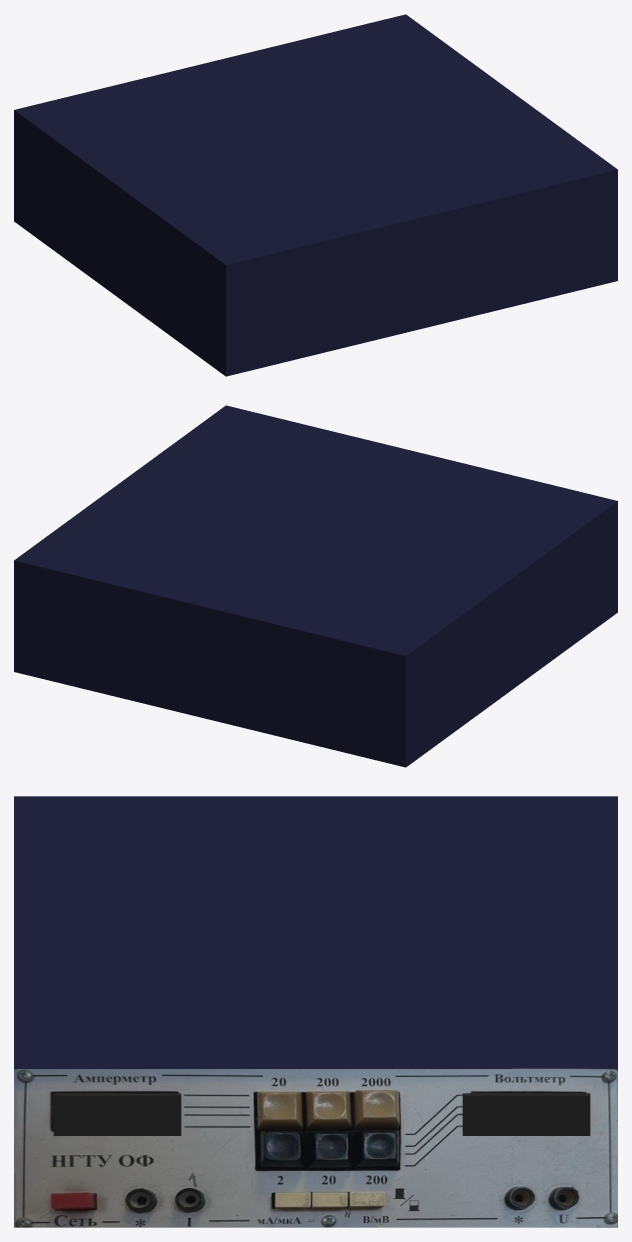
The model's file is ammeter.glb.
3 views of the same model, one above another, from view 1: azimuth 30°, elevation 25°; view 2: azimuth 150°, elevation 25°; view 3: azimuth 270°, elevation 25° (orthographic). The views are drawn at different scales.
Visible parts, largest first — view 1: Корпус; view 2: Корпус; view 3: Корпус, Диспелй Амперметра, Дисплей Вольтметра.
Part boxes in pixels (x1,y1,x2,y2): Корпус: (14,14,617,376); Корпус: (14,405,617,767); Корпус: (14,796,617,1227); Диспелй Амперметра: (53,1093,181,1135); Дисплей Вольтметра: (462,1093,590,1135).
Bounding box in the file's own units: 11.62 × 3.13 × 10.8.
Materials: 4 (1 with a texture image).
